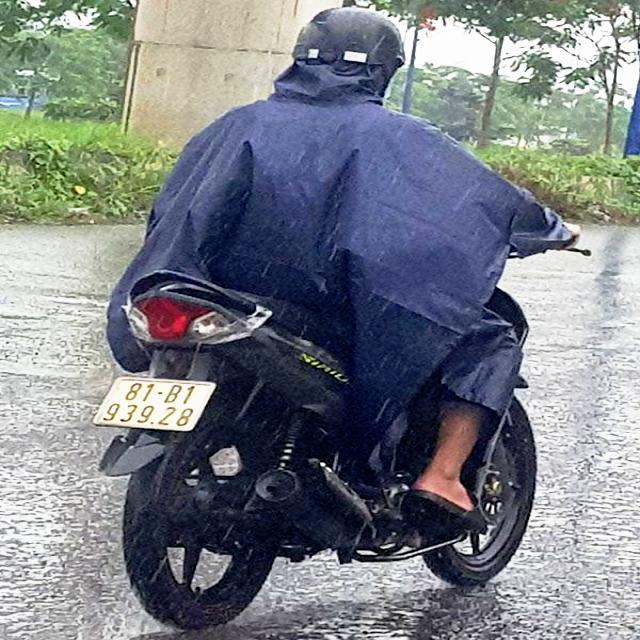license_plate: (95, 377, 215, 433)
